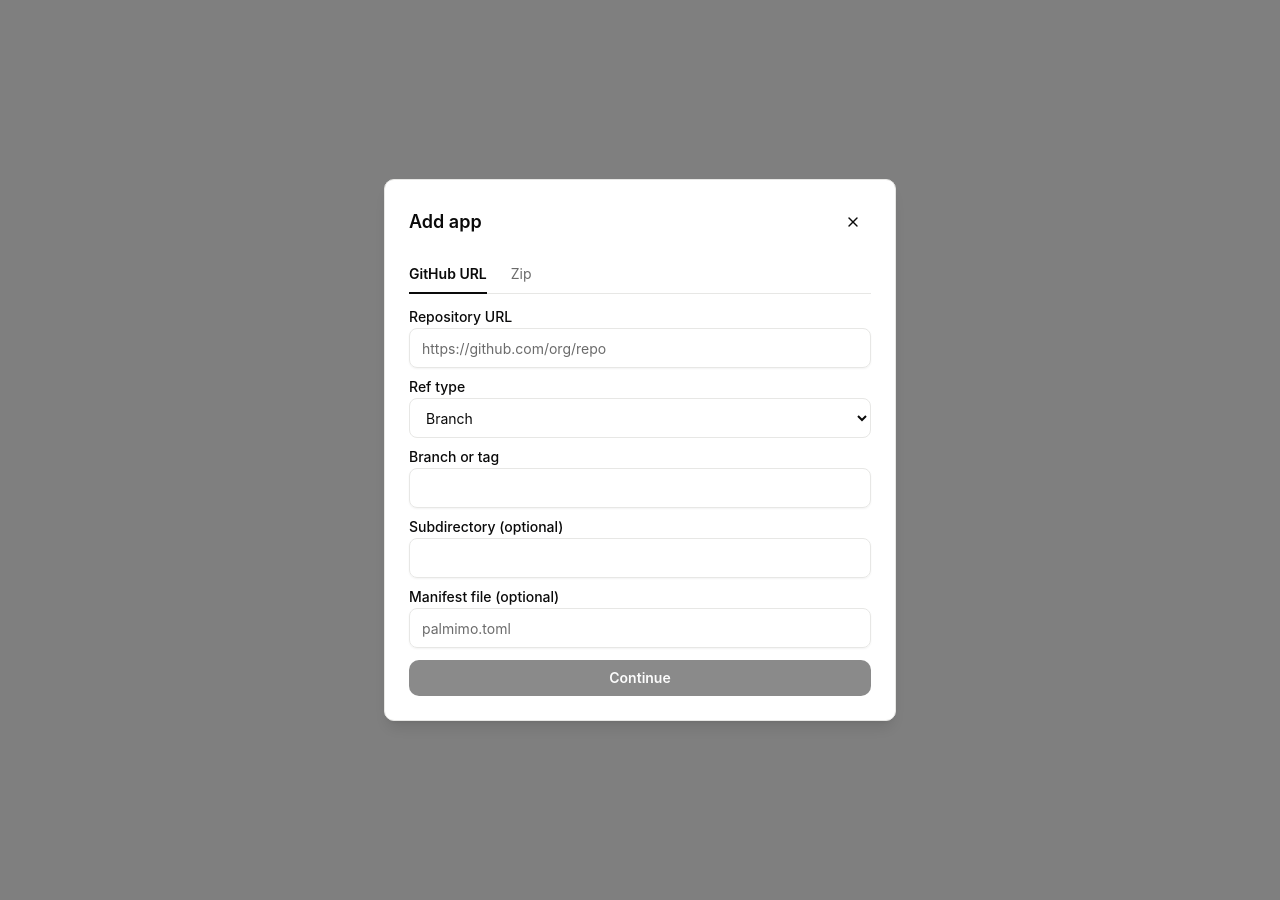
Scenario: AddAppDialog › shows the confirmation in place of the form, and Back returns to the filled-in form
Type "https://github.com/alice/my-app" into the field labelled "Repository URL" at (640, 348), box [409, 328, 871, 368]
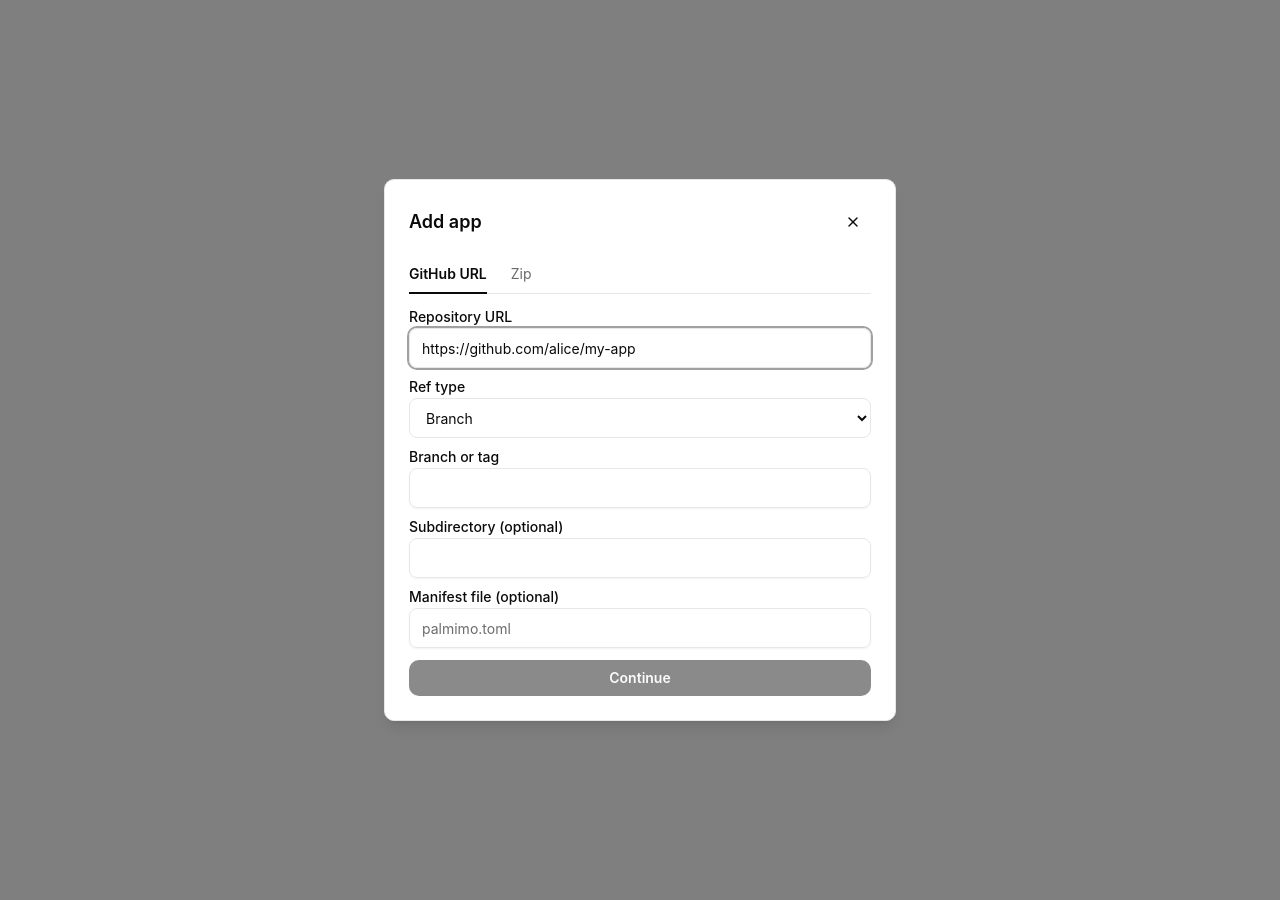
Type "main" into the field labelled "Branch or tag" at (640, 488), box [409, 468, 871, 508]
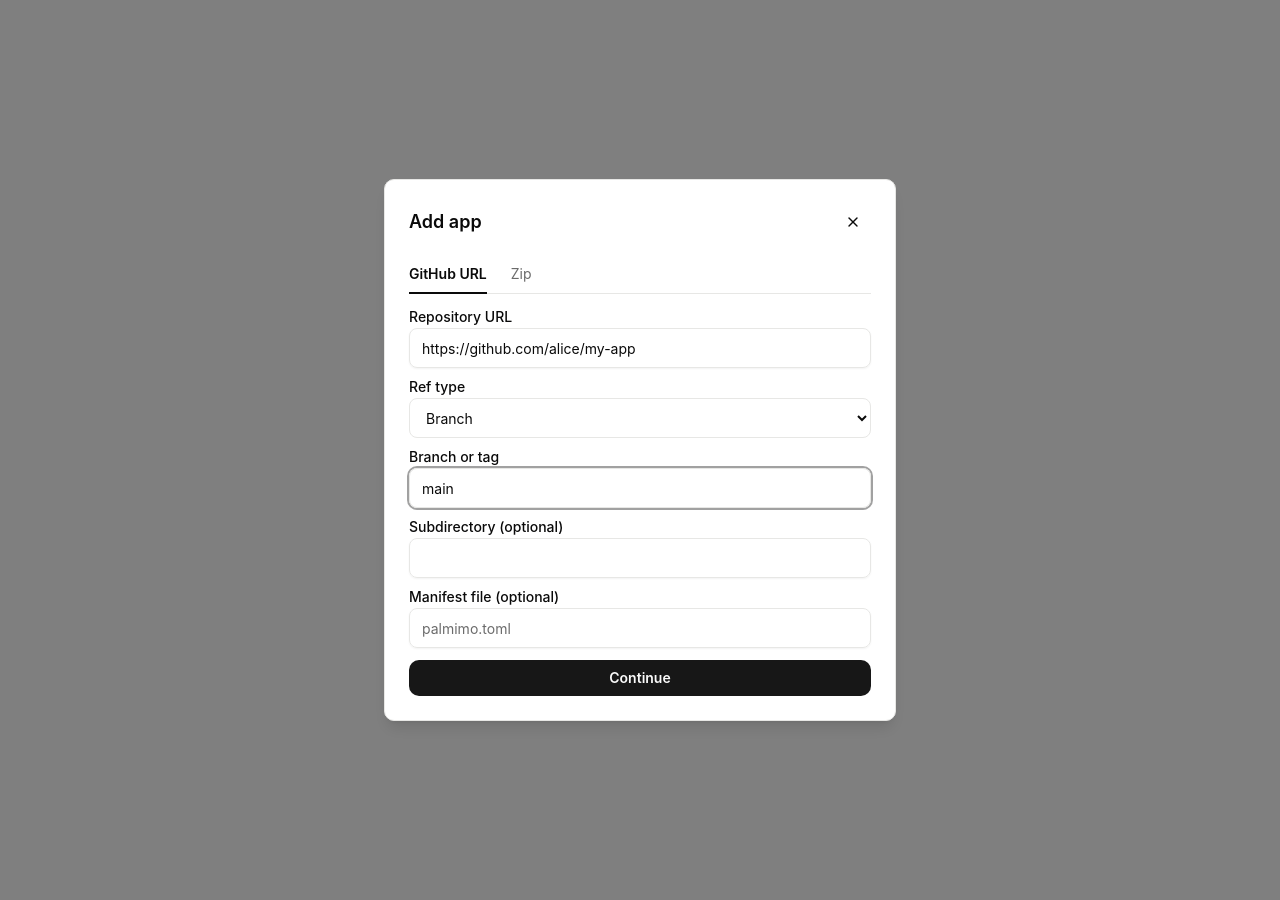
Click the button "Continue" at (640, 678), box [409, 660, 871, 696]
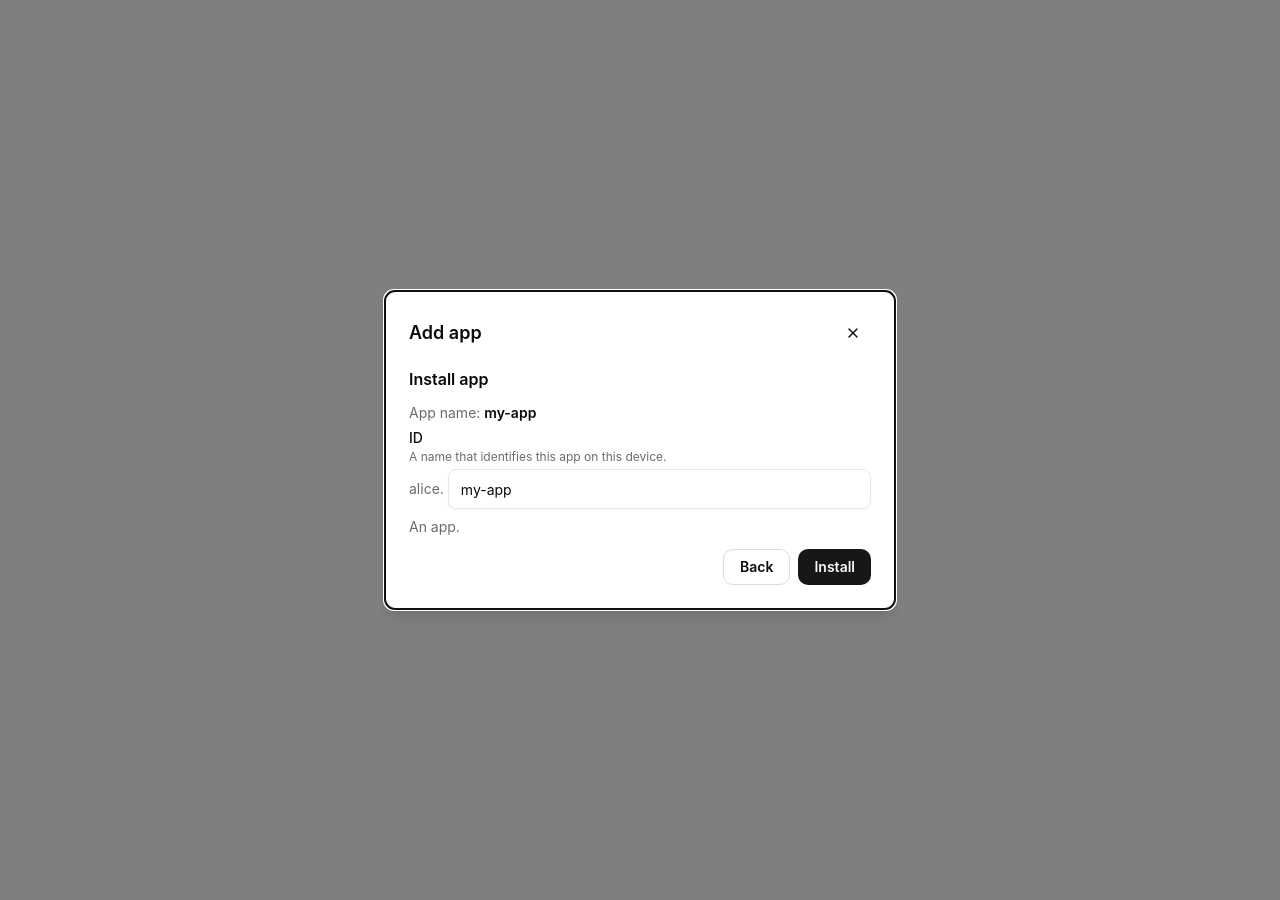
Expected: the text "my-app" is shown, [484, 404, 536, 421]
Expected: the label labelled "Repository URL" is gone
Expected: the button "Zip" is gone
Click the button "Back" at (757, 567), box [723, 549, 790, 585]
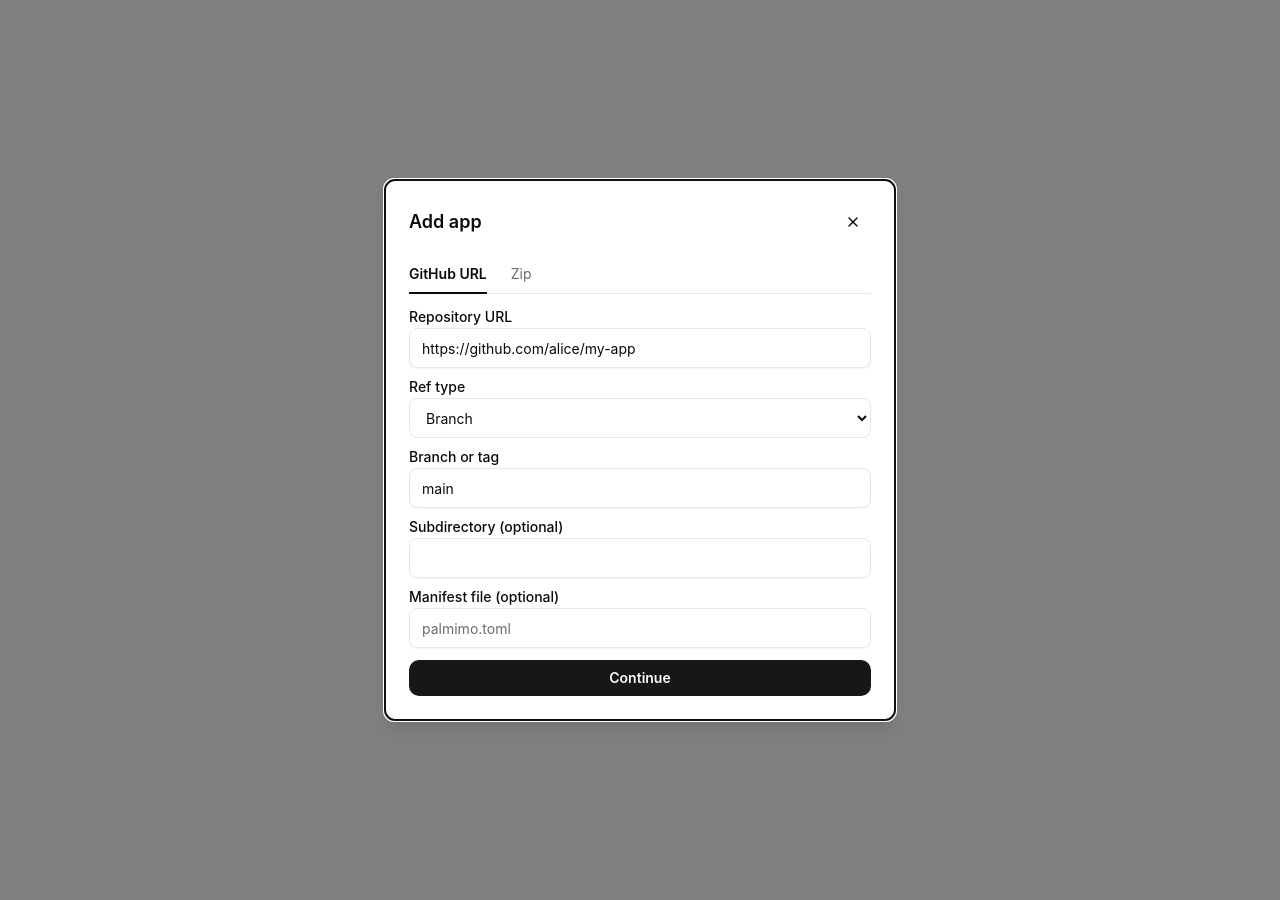
Expected: the field labelled "Repository URL" holds "https://github.com/alice/my-app", [409, 328, 871, 368]
